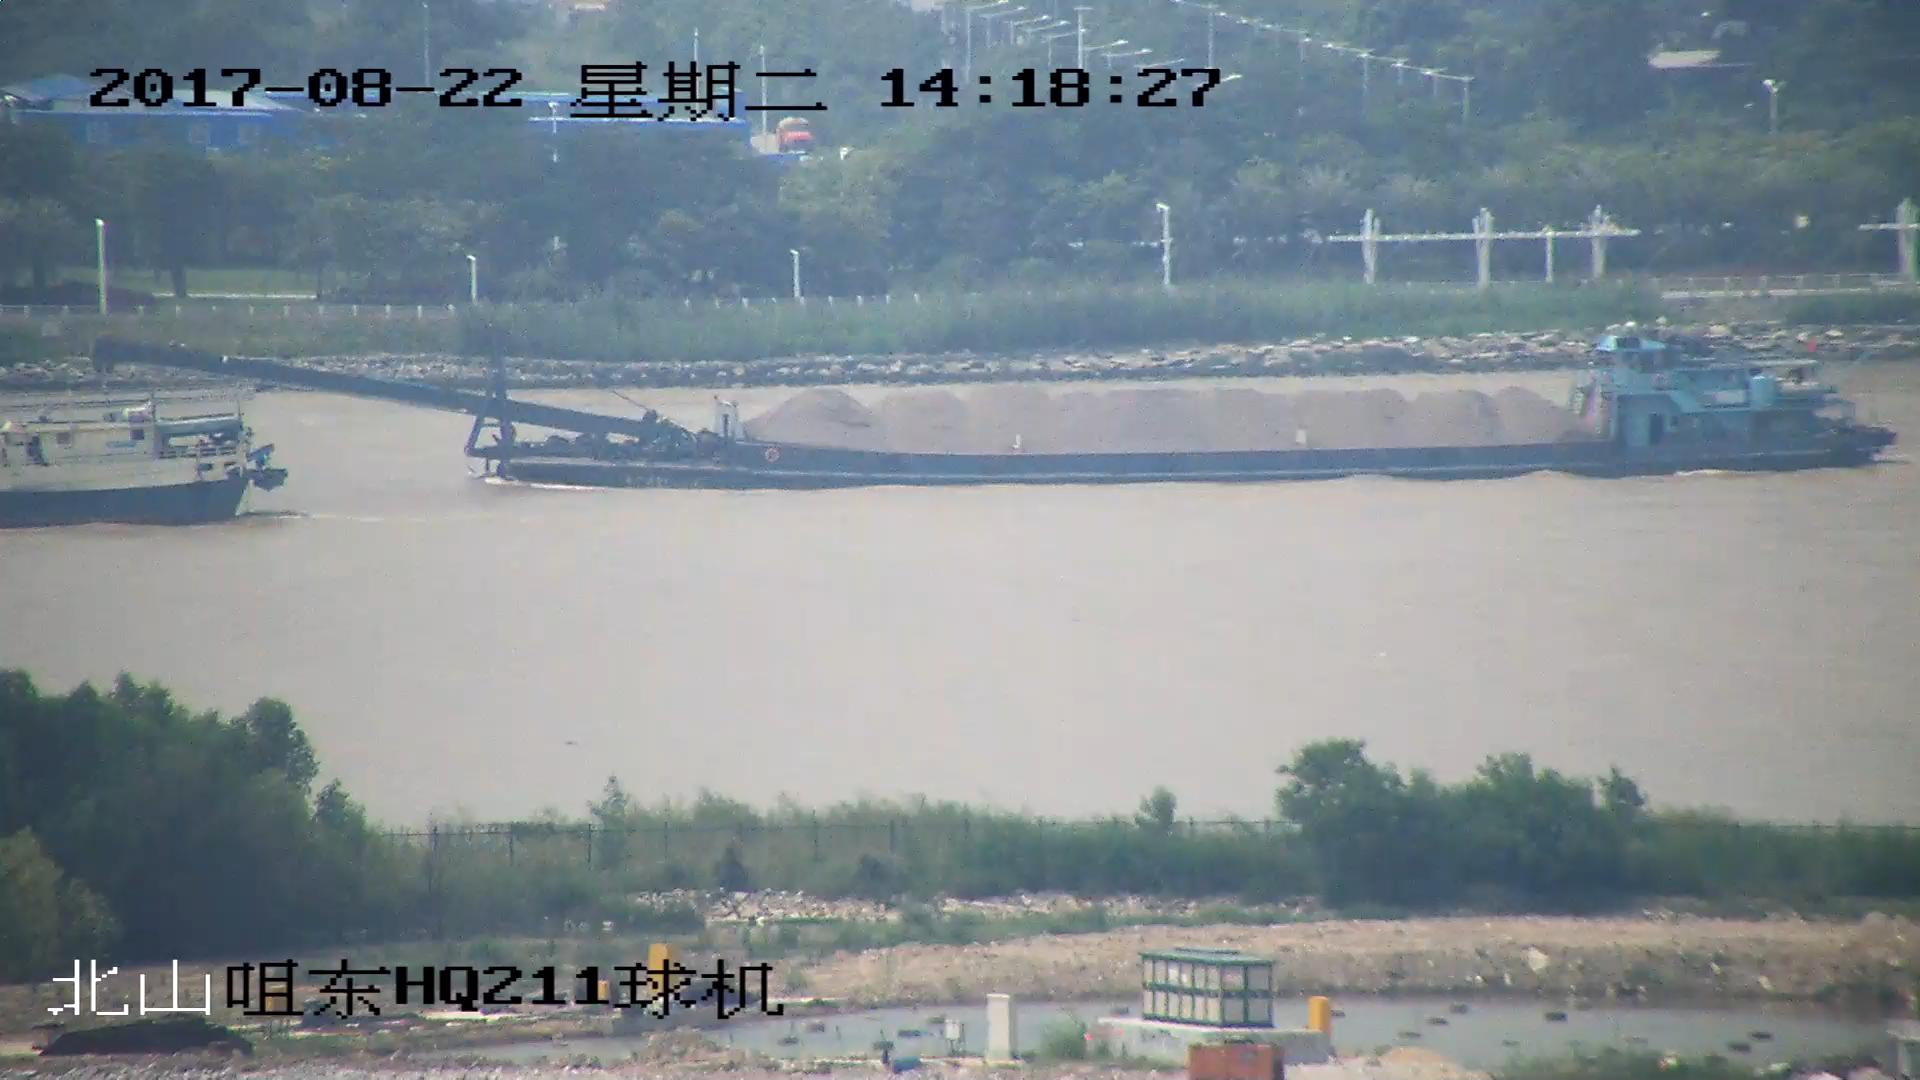fishing boat: (1, 398, 291, 527)
ore carrier: (87, 333, 1899, 490)
